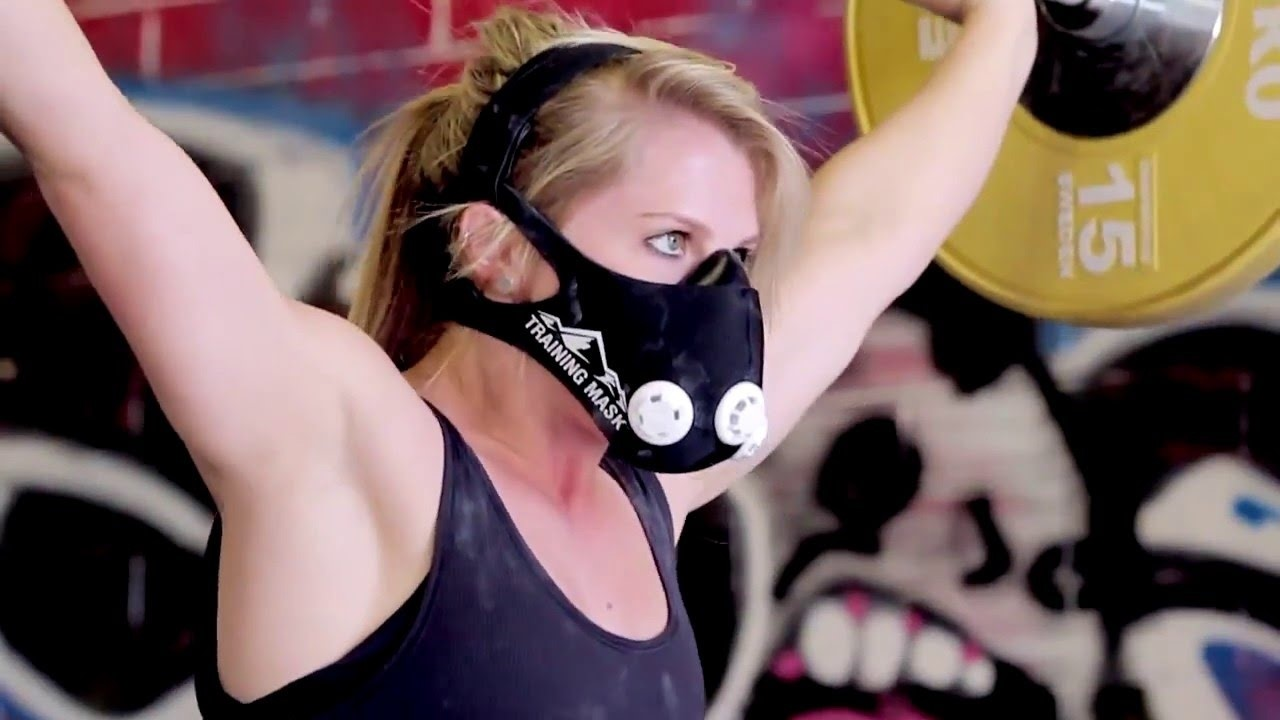face_with_mask: (442, 84, 805, 489)
